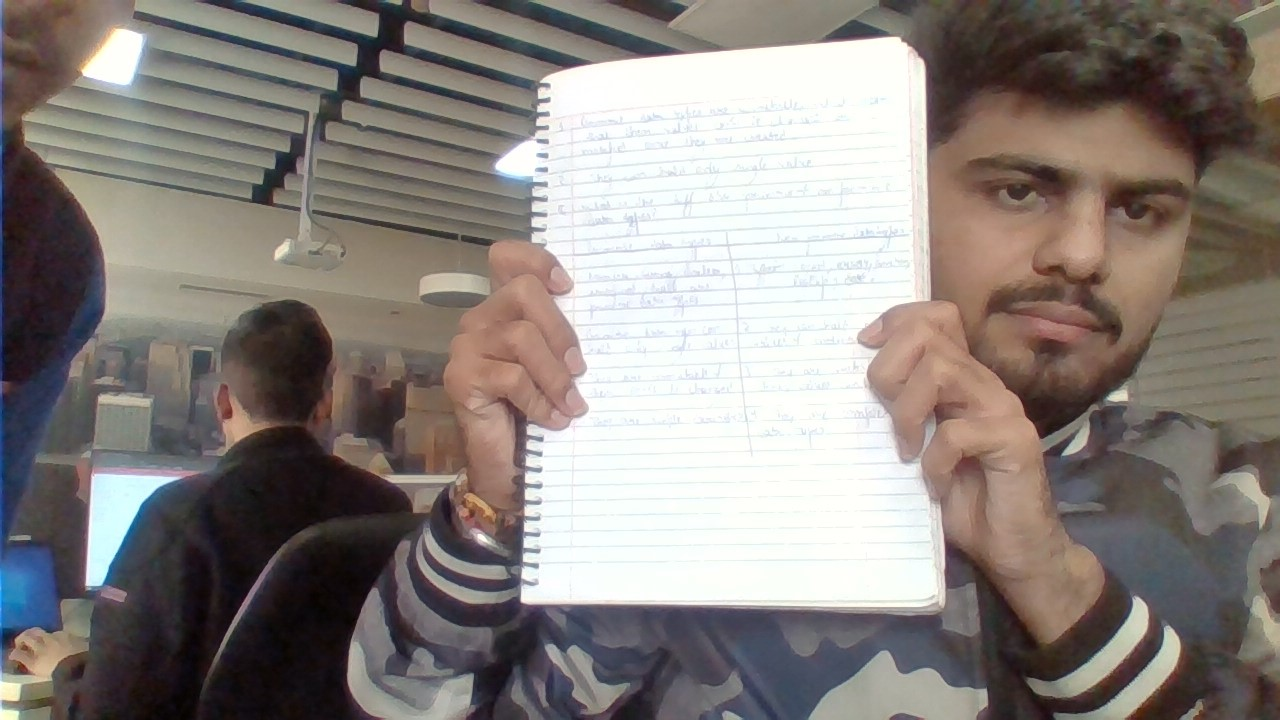notebook: (508, 41, 956, 625)
